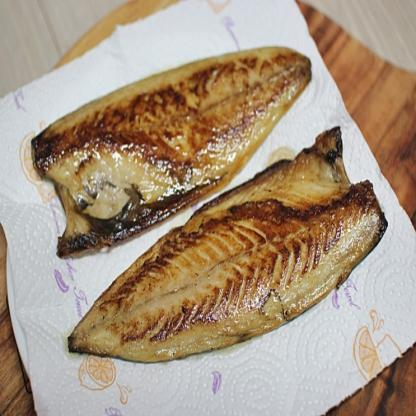Peixe: (39, 16, 393, 392)
